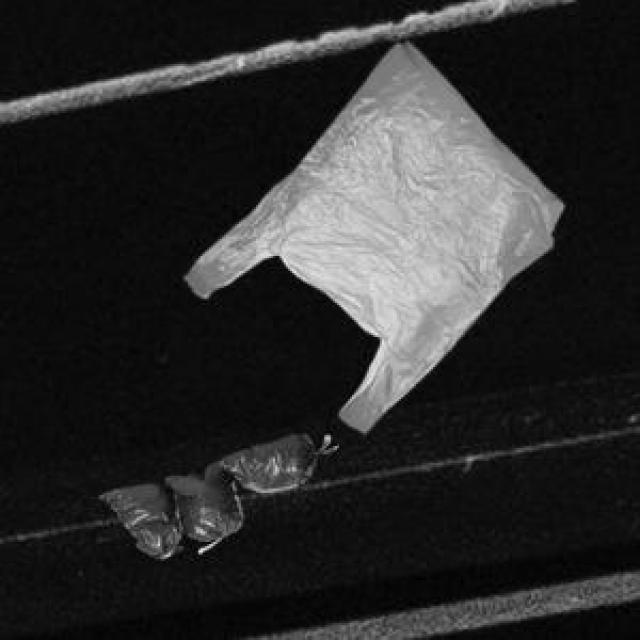miscellaneous trash: (97, 429, 314, 555)
